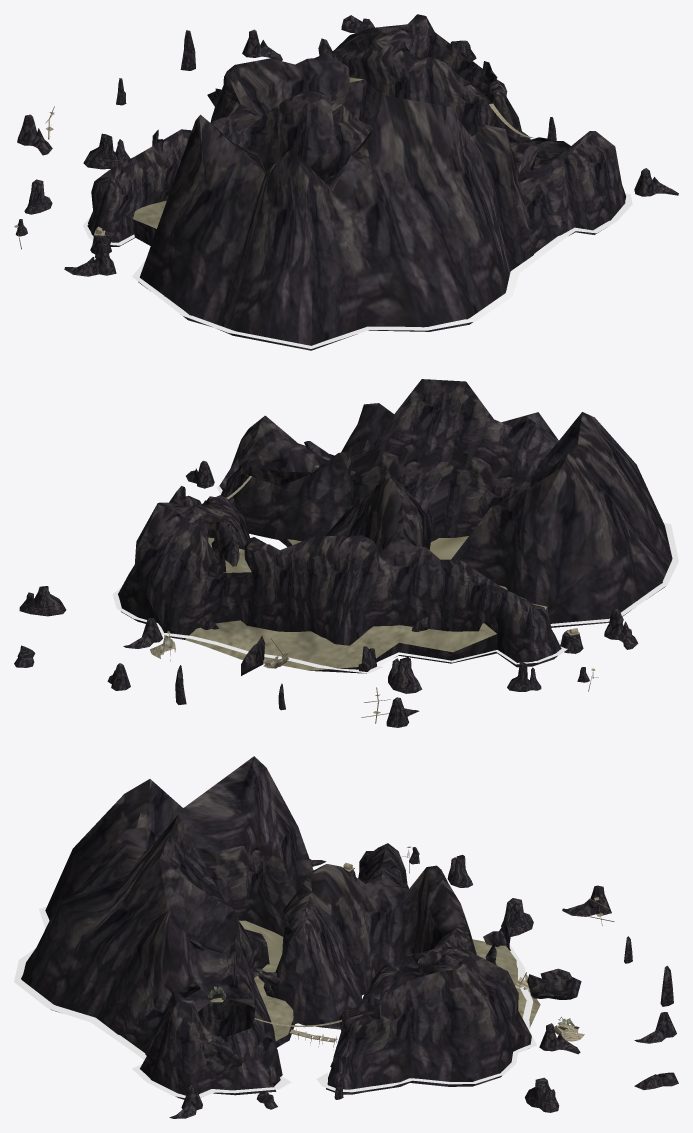
File: pir_m_are_isl_ravensCove_dock_lod.fbx
3 renders of one model, top to bottom at view 1: azimuth 30°, elevation 25°; view 2: azimuth 150°, elevation 25°; view 3: azimuth 270°, elevation 25°, orthographic. The views are drawn at different scales.
Parts seen in each view (by area): view 1: dock_lod, wave, pir_m_prp_cav_rock_d_geometry3, pir_m_prp_ocn_rock_b_4, pir_m_prp_ocn_rock_a_4, polySurface2, pir_m_prp_ocn_rock_a_7, pir_m_prp_ocn_rock_a_8, rockFormation_070, pir_m_prp_ocn_rock_b_5, pir_m_prp_ocn_rock_a_6; view 2: dock_lod, rockFormation_070, wave, pir_m_prp_cav_rock_d_geometry3, pir_m_prp_ocn_rock_b_3, pir_m_prp_ocn_rock_b_4, polySurface2, pir_m_prp_ocn_rock_a_4, pir_m_prp_ocn_rock_b_5, pir_m_prp_ocn_rock_a_7, pir_m_prp_ocn_rock_a_2; view 3: dock_lod, pir_m_prp_cav_rock_d_geometry3, wave, rockFormation_070, polySurface2, pir_m_prp_ocn_rock_b_4, pir_m_prp_ocn_rock_b_3, pir_m_prp_ocn_rock_a_7, pir_m_prp_ocn_rock_a_6, pir_m_prp_ocn_rock_a_2, pir_m_prp_ocn_rock_b_5, pir_m_prp_ocn_rock_a_8.
Part boxes in pixels (x1=…): dock_lod: x1=87, y1=14, x2=626, y2=350; wave: x1=83, y1=138, x2=632, y2=348; pir_m_prp_cav_rock_d_geometry3: x1=152, y1=38, x2=538, y2=174; pir_m_prp_ocn_rock_b_4: x1=83, y1=133, x2=130, y2=169; pir_m_prp_ocn_rock_a_4: x1=64, y1=244, x2=116, y2=276; polySurface2: x1=511, y1=141, x2=570, y2=168; pir_m_prp_ocn_rock_a_7: x1=17, y1=114, x2=52, y2=155; pir_m_prp_ocn_rock_a_8: x1=634, y1=168, x2=678, y2=196; rockFormation_070: x1=133, y1=77, x2=363, y2=228; pir_m_prp_ocn_rock_b_5: x1=24, y1=179, x2=52, y2=214; pir_m_prp_ocn_rock_a_6: x1=242, y1=29, x2=282, y2=60; dock_lod: x1=118, y1=379, x2=672, y2=673; rockFormation_070: x1=185, y1=536, x2=547, y2=670; wave: x1=112, y1=486, x2=678, y2=673; pir_m_prp_cav_rock_d_geometry3: x1=169, y1=439, x2=427, y2=675; pir_m_prp_ocn_rock_b_3: x1=19, y1=586, x2=66, y2=616; pir_m_prp_ocn_rock_b_4: x1=388, y1=657, x2=422, y2=693; polySurface2: x1=242, y1=458, x2=311, y2=485; pir_m_prp_ocn_rock_a_4: x1=604, y1=608, x2=638, y2=649; pir_m_prp_ocn_rock_b_5: x1=507, y1=662, x2=541, y2=691; pir_m_prp_ocn_rock_a_7: x1=386, y1=697, x2=419, y2=727; pir_m_prp_ocn_rock_a_2: x1=123, y1=618, x2=162, y2=648; dock_lod: x1=21, y1=756, x2=531, y2=1099; pir_m_prp_cav_rock_d_geometry3: x1=179, y1=924, x2=581, y2=1086; wave: x1=14, y1=906, x2=536, y2=1098; rockFormation_070: x1=239, y1=920, x2=540, y2=1040; polySurface2: x1=197, y1=999, x2=255, y2=1038; pir_m_prp_ocn_rock_b_4: x1=499, y1=898, x2=533, y2=936; pir_m_prp_ocn_rock_b_3: x1=525, y1=1077, x2=559, y2=1112; pir_m_prp_ocn_rock_a_7: x1=562, y1=885, x2=611, y2=916; pir_m_prp_ocn_rock_a_6: x1=634, y1=1012, x2=676, y2=1043; pir_m_prp_ocn_rock_a_2: x1=539, y1=1023, x2=580, y2=1054; pir_m_prp_ocn_rock_b_5: x1=447, y1=855, x2=472, y2=887; pir_m_prp_ocn_rock_a_8: x1=169, y1=1085, x2=202, y2=1118.
Size of the model in its own units: 203697 by 64513 by 219134.
2 materials, 2 textured.
